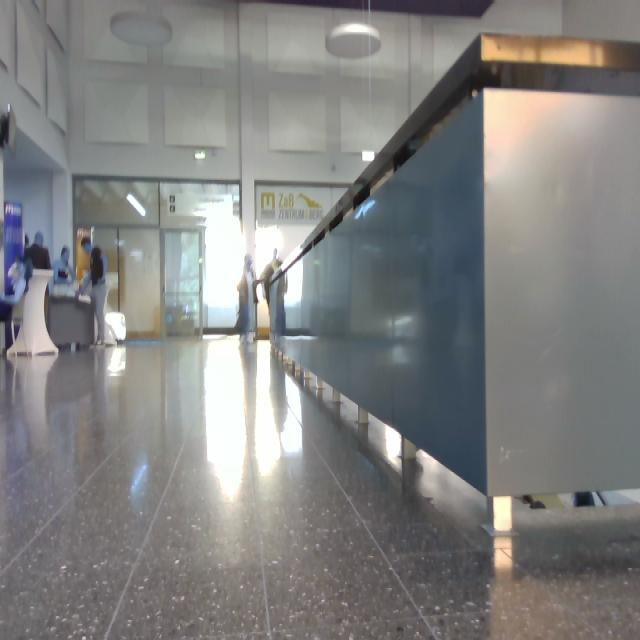desk: (45, 284, 94, 349)
door: (165, 217, 245, 336), (94, 228, 117, 313)
light bulb: (111, 12, 172, 48), (326, 24, 379, 60), (356, 197, 376, 220), (127, 193, 146, 217), (196, 150, 206, 160)
person: (82, 246, 107, 344), (1, 258, 32, 320), (237, 254, 257, 342), (52, 246, 75, 290), (27, 233, 52, 269)
staircase: (272, 36, 640, 534)
table: (9, 270, 58, 357)
tiled floor: (1, 340, 640, 640)
